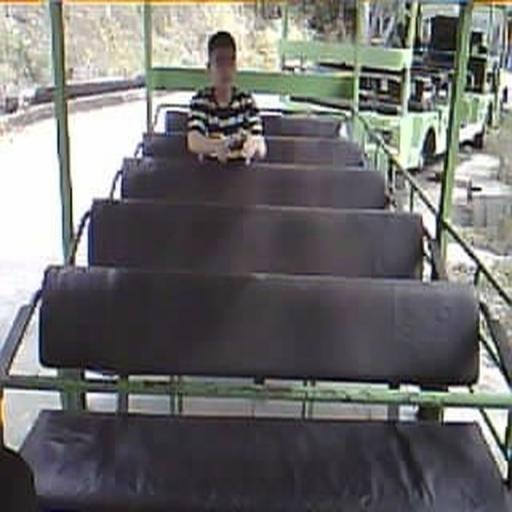persona: (186, 30, 268, 166)
